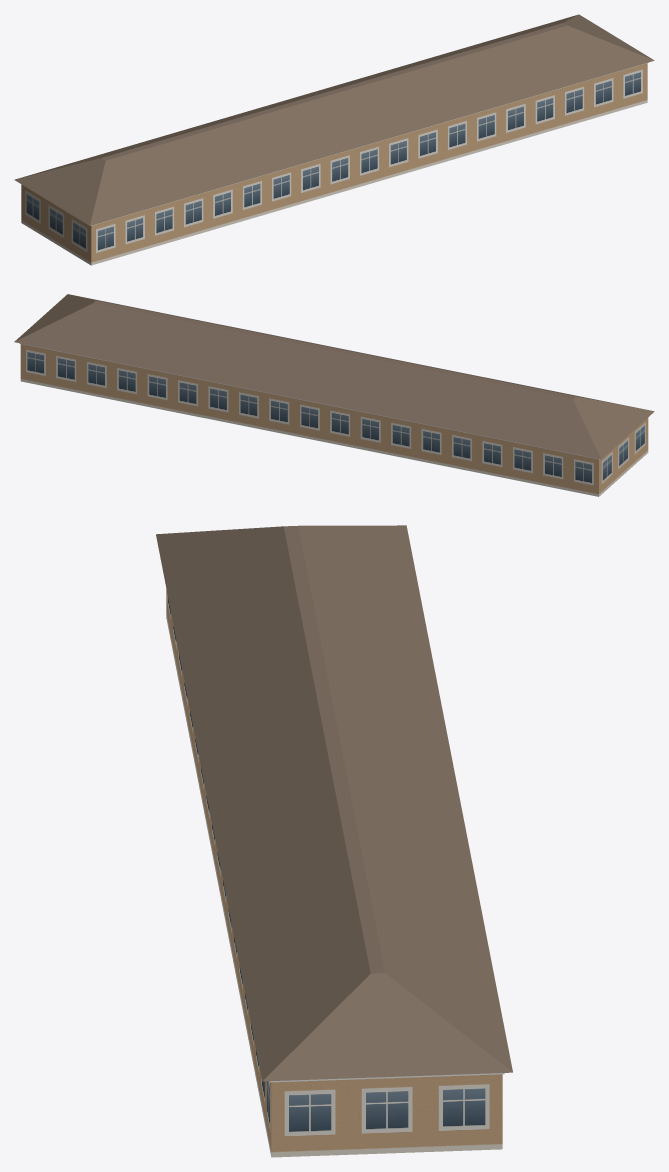
The model's file is kechuang4.glb.
The picture shows the model from 3 angles, top to bottom: view 1: azimuth 30°, elevation 25°; view 2: azimuth 150°, elevation 25°; view 3: azimuth 270°, elevation 25°; orthographic projection. The views are drawn at different scales.
Parts seen in each view (by area): view 1: 科创4号楼; view 2: 科创4号楼; view 3: 科创4号楼.
Part boxes in pixels (x1,y1,x2,y2): 科创4号楼: [14, 14, 654, 265]; 科创4号楼: [14, 294, 654, 496]; 科创4号楼: [156, 525, 512, 1157].
Bounding box in the file's own units: 66.6 × 7.5 × 18.09.
3 materials, 1 textured.
